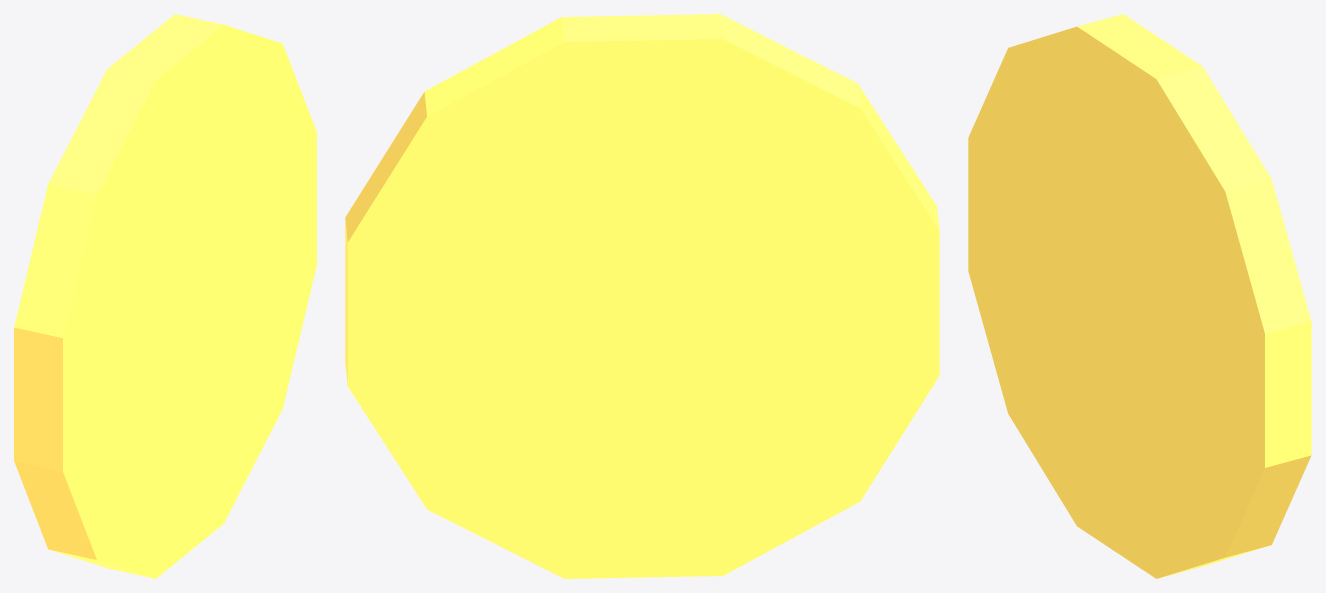
File: jjCoin3.fbx
3 renders of one model, left to right at view 1: azimuth 30°, elevation 25°; view 2: azimuth 150°, elevation 25°; view 3: azimuth 270°, elevation 25°, orthographic. The views are drawn at different scales.
Visible parts, largest first — view 1: Coin; view 2: Coin; view 3: Coin.
Boxes of the visible parts, box(x1,y1,x2,y2) form: Coin: box(14, 14, 316, 578); Coin: box(345, 14, 939, 578); Coin: box(968, 14, 1311, 578).
Bounding box in the file's own units: 173 × 193 × 120.
